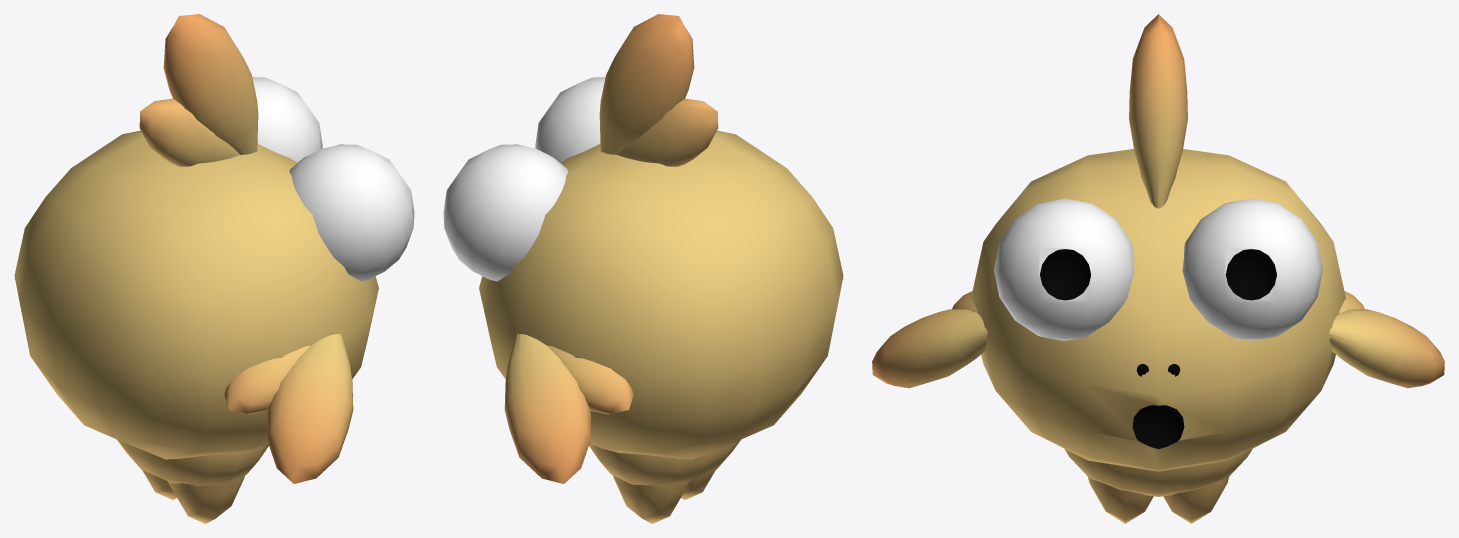
The model's file is mdl_crea.fbx.
3 renders of one model, left to right at view 1: azimuth 30°, elevation 25°; view 2: azimuth 150°, elevation 25°; view 3: azimuth 270°, elevation 25°, orthographic.
Visible parts, largest first — view 1: mdl_crea; view 2: mdl_crea; view 3: mdl_crea.
Boxes of the visible parts, bbox=[...] form: mdl_crea: bbox=[14, 14, 414, 523]; mdl_crea: bbox=[443, 14, 843, 523]; mdl_crea: bbox=[872, 14, 1444, 523].
Size of the model in its own units: 0.7528 by 1.13 by 1.16.
